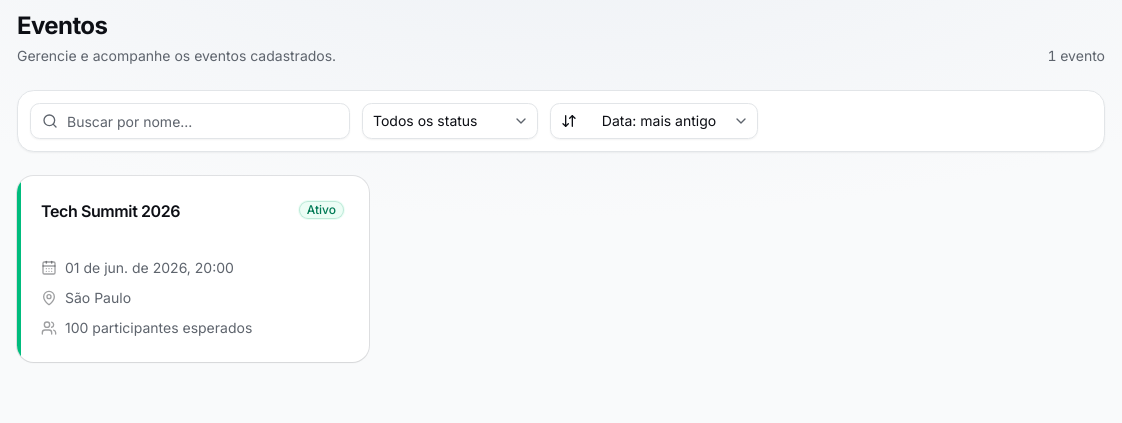
it: listagem de eventos — estados › exibe mensagem vazia quando filtro não retorna resultados
Expected: the heading "Tech Summit 2026" is shown, left=41, top=200, right=180, bottom=222
Type "evento que nao existe" into the search field labelled "Buscar por nome...". click: (190, 121)
box: left=30, top=103, right=350, bottom=139
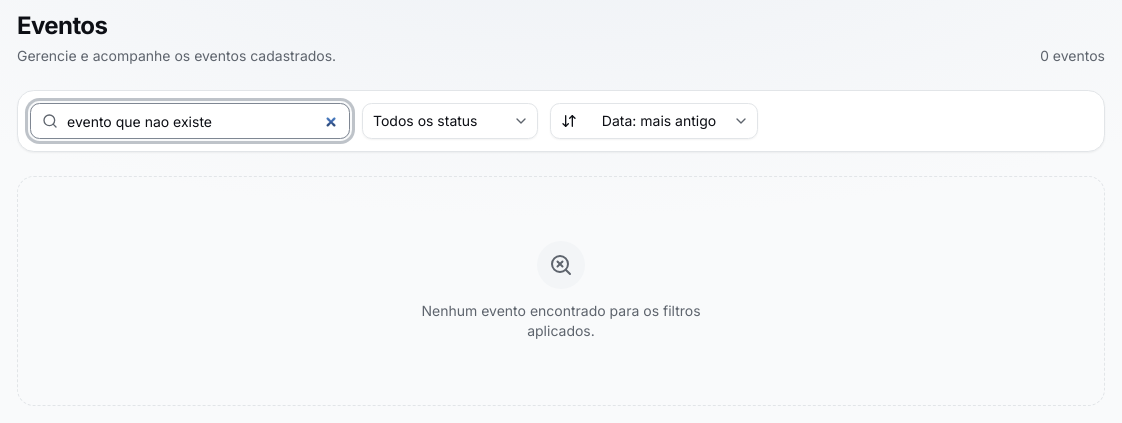
Expected: the text "Nenhum evento encontrado para os filtros aplicados." is shown, left=401, top=301, right=721, bottom=341
